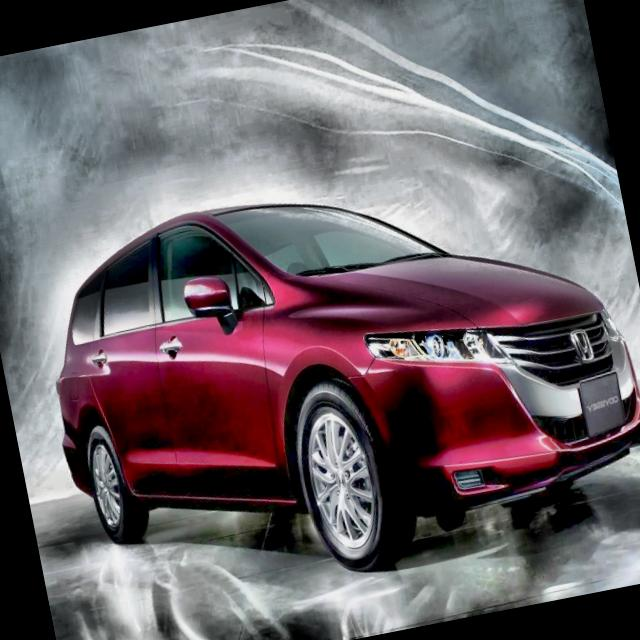Car: (25, 135, 640, 622)
